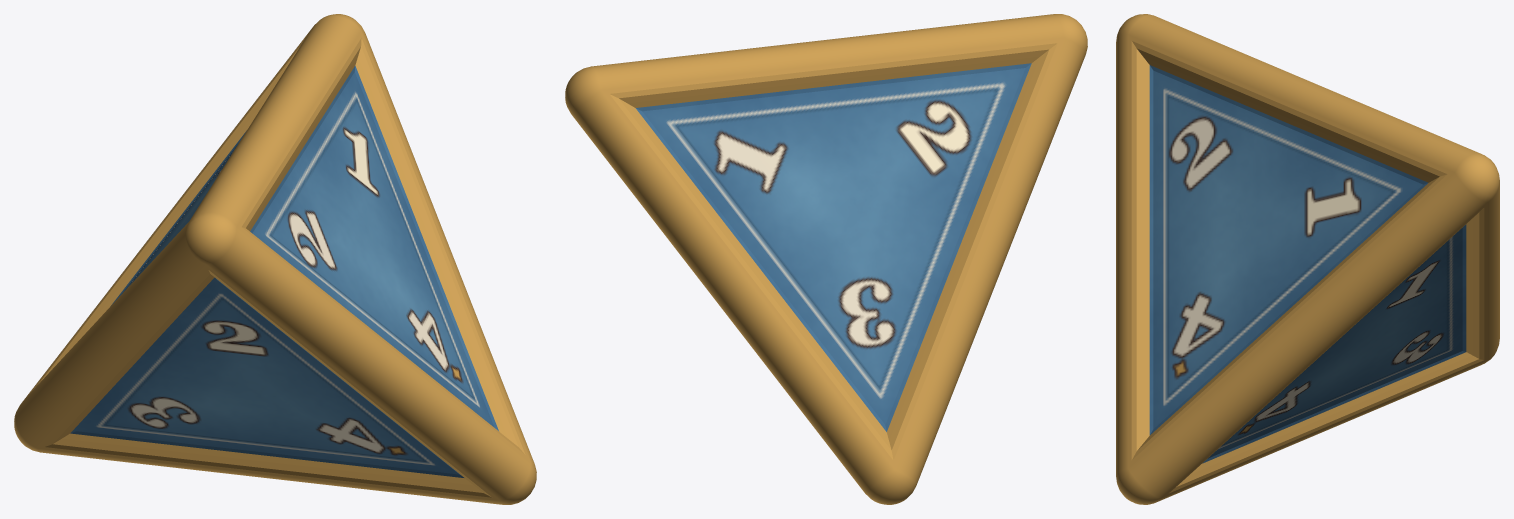
File: d4_skin.glb
3 views of the same model, side by side, from view 1: azimuth 30°, elevation 25°; view 2: azimuth 150°, elevation 25°; view 3: azimuth 270°, elevation 25° (orthographic). The views are drawn at different scales.
Parts seen in each view (by area): view 1: D4 · sea-mist ceramic; view 2: D4 · sea-mist ceramic; view 3: D4 · sea-mist ceramic.
Boxes of the visible parts, <box> form: D4 · sea-mist ceramic: <box>14,14,536,504</box>; D4 · sea-mist ceramic: <box>565,14,1087,504</box>; D4 · sea-mist ceramic: <box>1116,14,1499,504</box>.
Bounding box in the file's own units: 1.23 × 1.23 × 1.23.
Materials: 2 (1 with a texture image).
